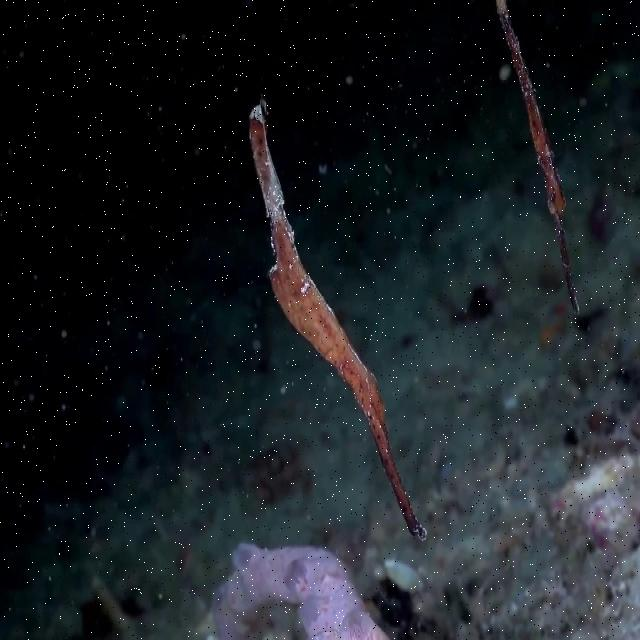reefs: (248, 106, 428, 539), (497, 0, 582, 312), (217, 540, 390, 639)
